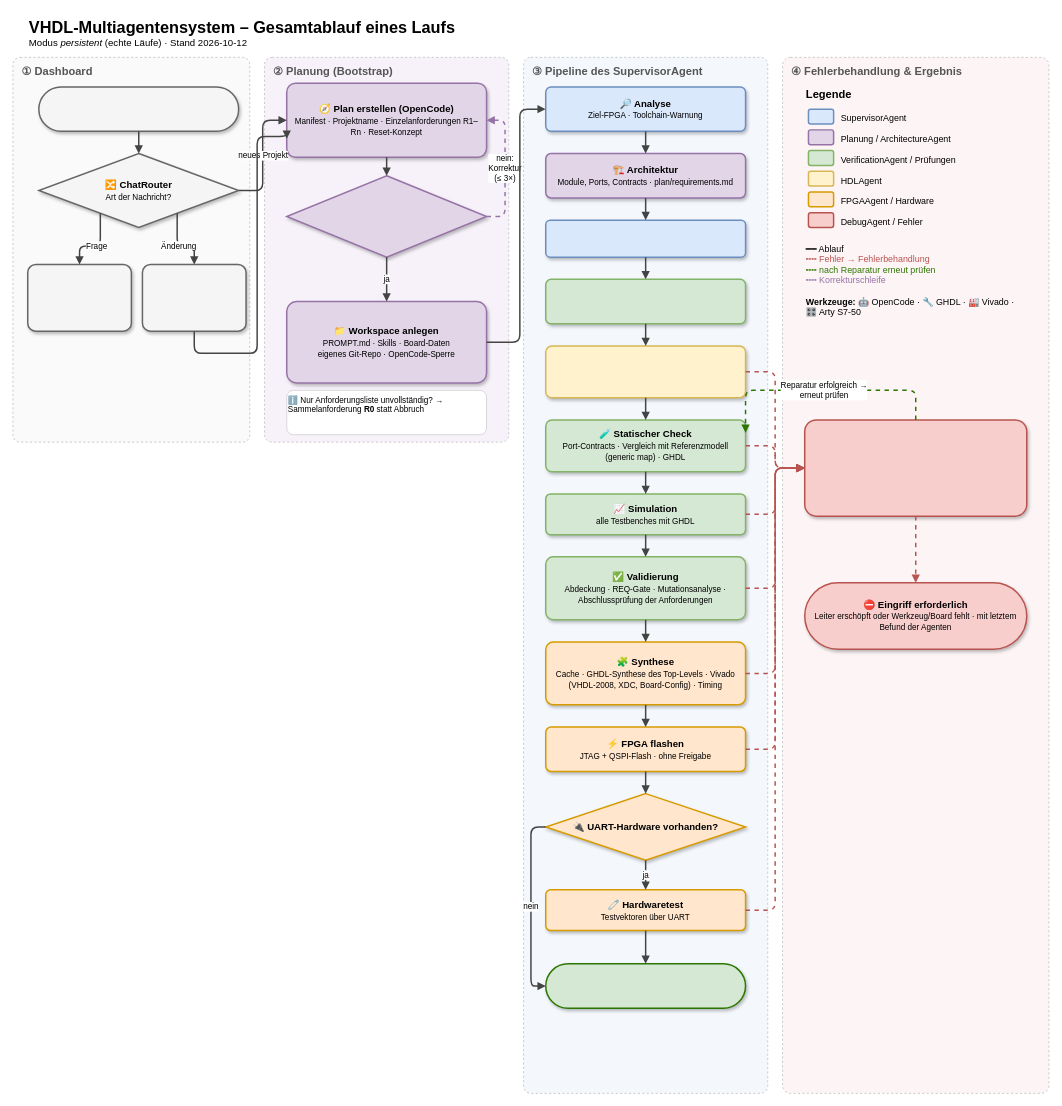
Image size: 1062x1106. Some labels were removed from this diagram. The shapes that lost their labels are listed below. From the top down, each one's centre as x and y in pixels, then its label:
[139,110]: 💬 Anforderung Benutzer schreibt im Dashboard
[387,217]: ✔️ Plan gültig? Zyklen, Ports, Zitate aus PROMPT.md
[646,239]: 📡 UART-Integration nur wenn nötig
[80,298]: ❓ Frage OpenCodeProjectChat antwortet im Projekt
[194,298]: ✏️ Änderung Plan mit Änderungswunsch
[646,302]: 🐍 Referenzmodell Python-Modell aus PROMPT.md · GENERICS
[646,372]: ⚙️ Implementierung TaskGraph · Module + Testbenches parallel (HDLAgent)
[916,469]: 🚑 Fehlerbehandlung Vorfilter · Eskalation · Reparatur Details: Seite 2
[646,987]: 🏁 Abgeschlossen Abschlussmeldung im Dashboard
